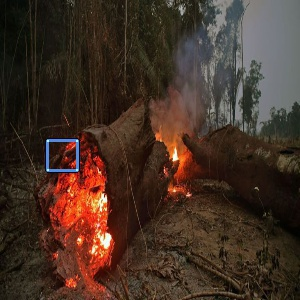square: (45, 138, 80, 174)
